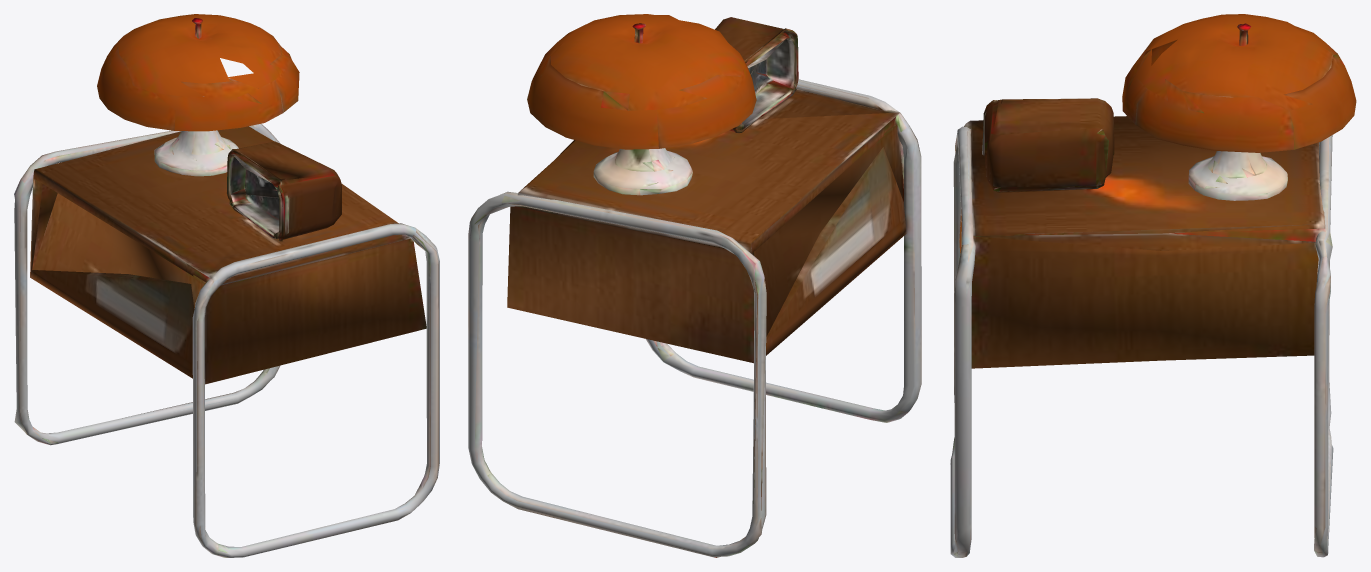
File: table_small__3.glb
The picture shows the model from 3 angles, left to right: view 1: azimuth 30°, elevation 25°; view 2: azimuth 150°, elevation 25°; view 3: azimuth 270°, elevation 25°; orthographic projection. The views are drawn at different scales.
Parts seen in each view (by area): view 1: Mesh_0.717; view 2: Mesh_0.717; view 3: Mesh_0.717.
Part boxes in pixels (<box>): Mesh_0.717: <box>14,14,439,557</box>; Mesh_0.717: <box>468,14,921,557</box>; Mesh_0.717: <box>950,14,1356,557</box>.
Bounding box in the file's own units: 0.561 × 0.85 × 0.6425.
1 material, 1 textured.
